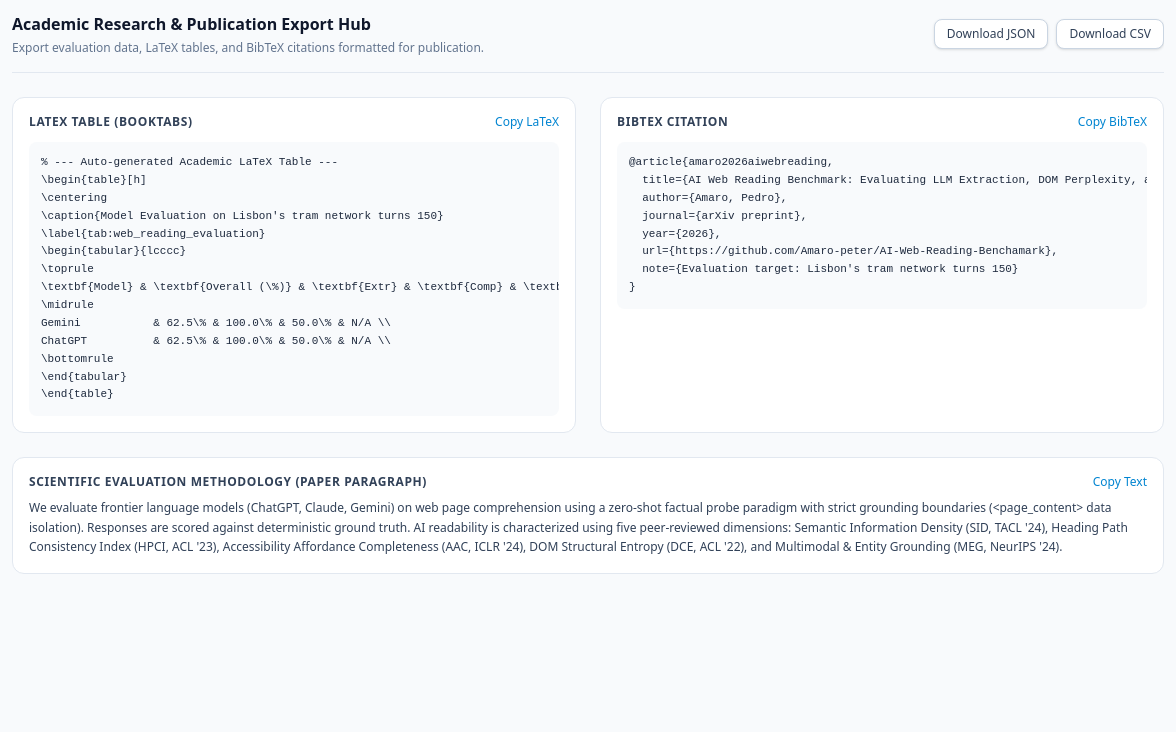
Test: AcademicExportHub › copies BibTeX citation to clipboard
This screenshot has width=1176, height=732.
Click the button "Copy BibTeX" at point(1112, 122), box [1078, 114, 1147, 130]
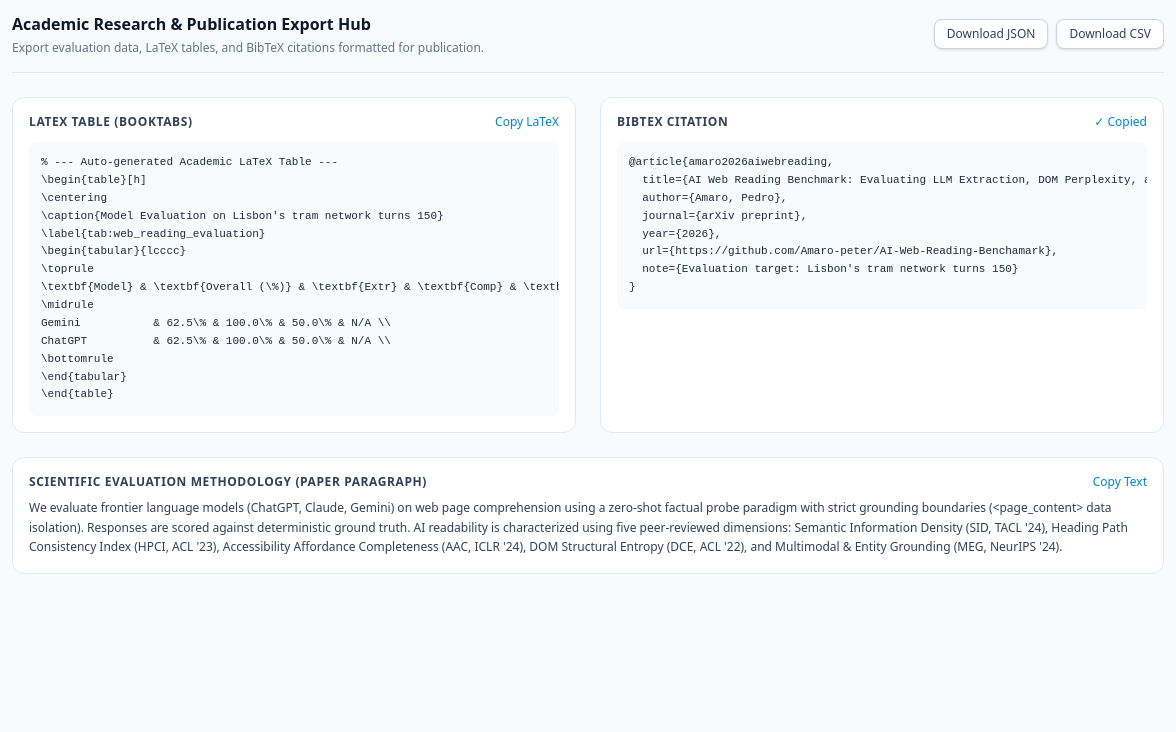
Result: the button "✓ Copied" is shown at [1094, 114, 1147, 130]
